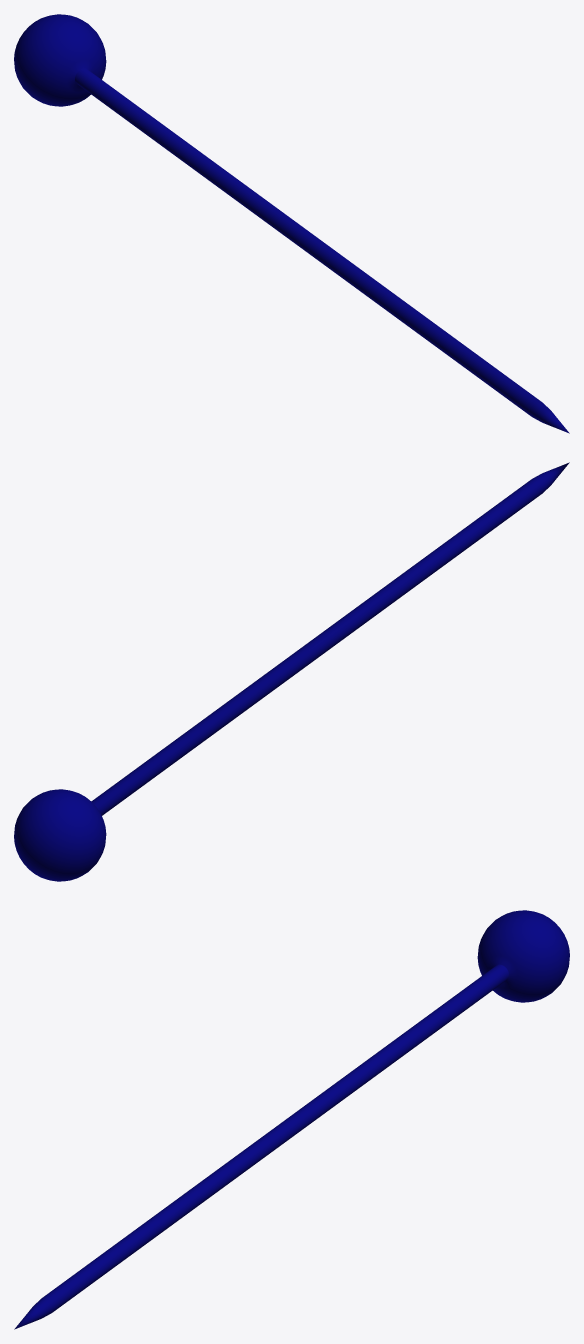
The model's file is NAVY.glb.
3 views of the same model, one above another, from view 1: azimuth 30°, elevation 25°; view 2: azimuth 150°, elevation 25°; view 3: azimuth 330°, elevation 25° (orthographic).
Visible parts, largest first — view 1: Sphere; view 2: Sphere; view 3: Sphere.
Part boxes in pixels (x1,y1,x2,y2): Sphere: [14, 14, 569, 433]; Sphere: [14, 462, 569, 881]; Sphere: [14, 910, 569, 1329].
Size of the model in its own units: 0.02 by 0.02 by 0.2305.
